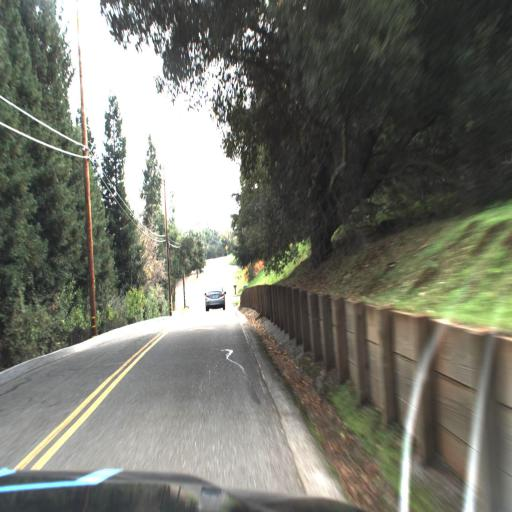car: (203, 276, 228, 313)
